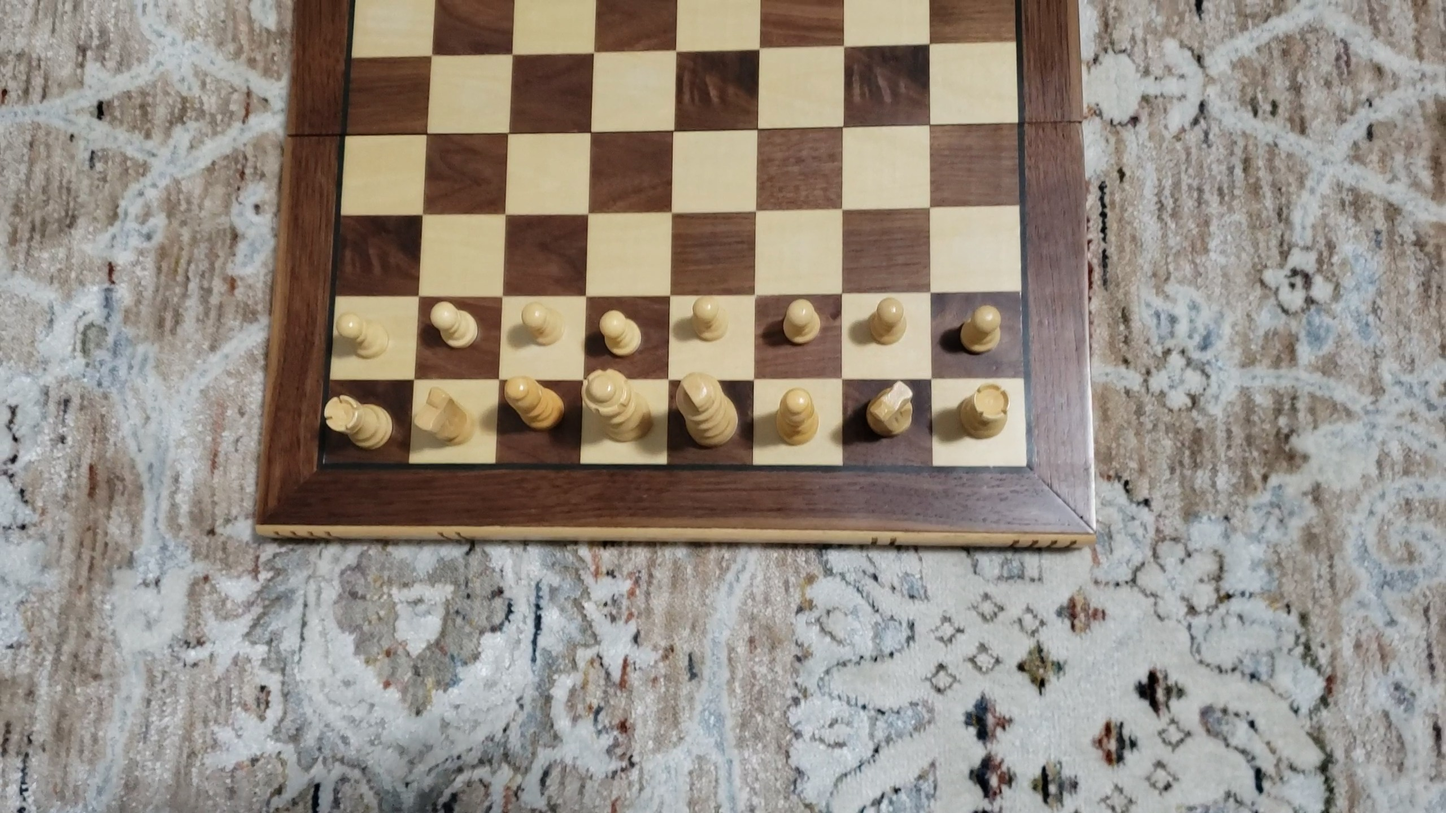white-bishop: (501, 374, 563, 432), (774, 384, 821, 449)
white-king: (675, 370, 737, 451)
white-knight: (411, 384, 476, 449), (860, 377, 917, 443)
white-pawn: (334, 309, 393, 362), (955, 300, 1007, 359), (428, 298, 481, 351), (516, 298, 569, 348), (864, 293, 911, 348), (776, 295, 824, 348), (598, 306, 643, 359), (687, 292, 730, 344)
white-queen: (580, 367, 655, 445)
white-rook: (323, 393, 392, 452), (956, 381, 1012, 442)
